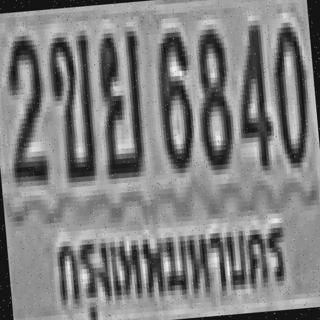A02: (44, 25, 97, 178)
A34: (94, 26, 146, 174)
N00: (266, 16, 312, 164)
N02: (0, 30, 48, 178)
N04: (231, 20, 272, 167)
N06: (152, 27, 195, 169)
N08: (190, 23, 233, 166)
